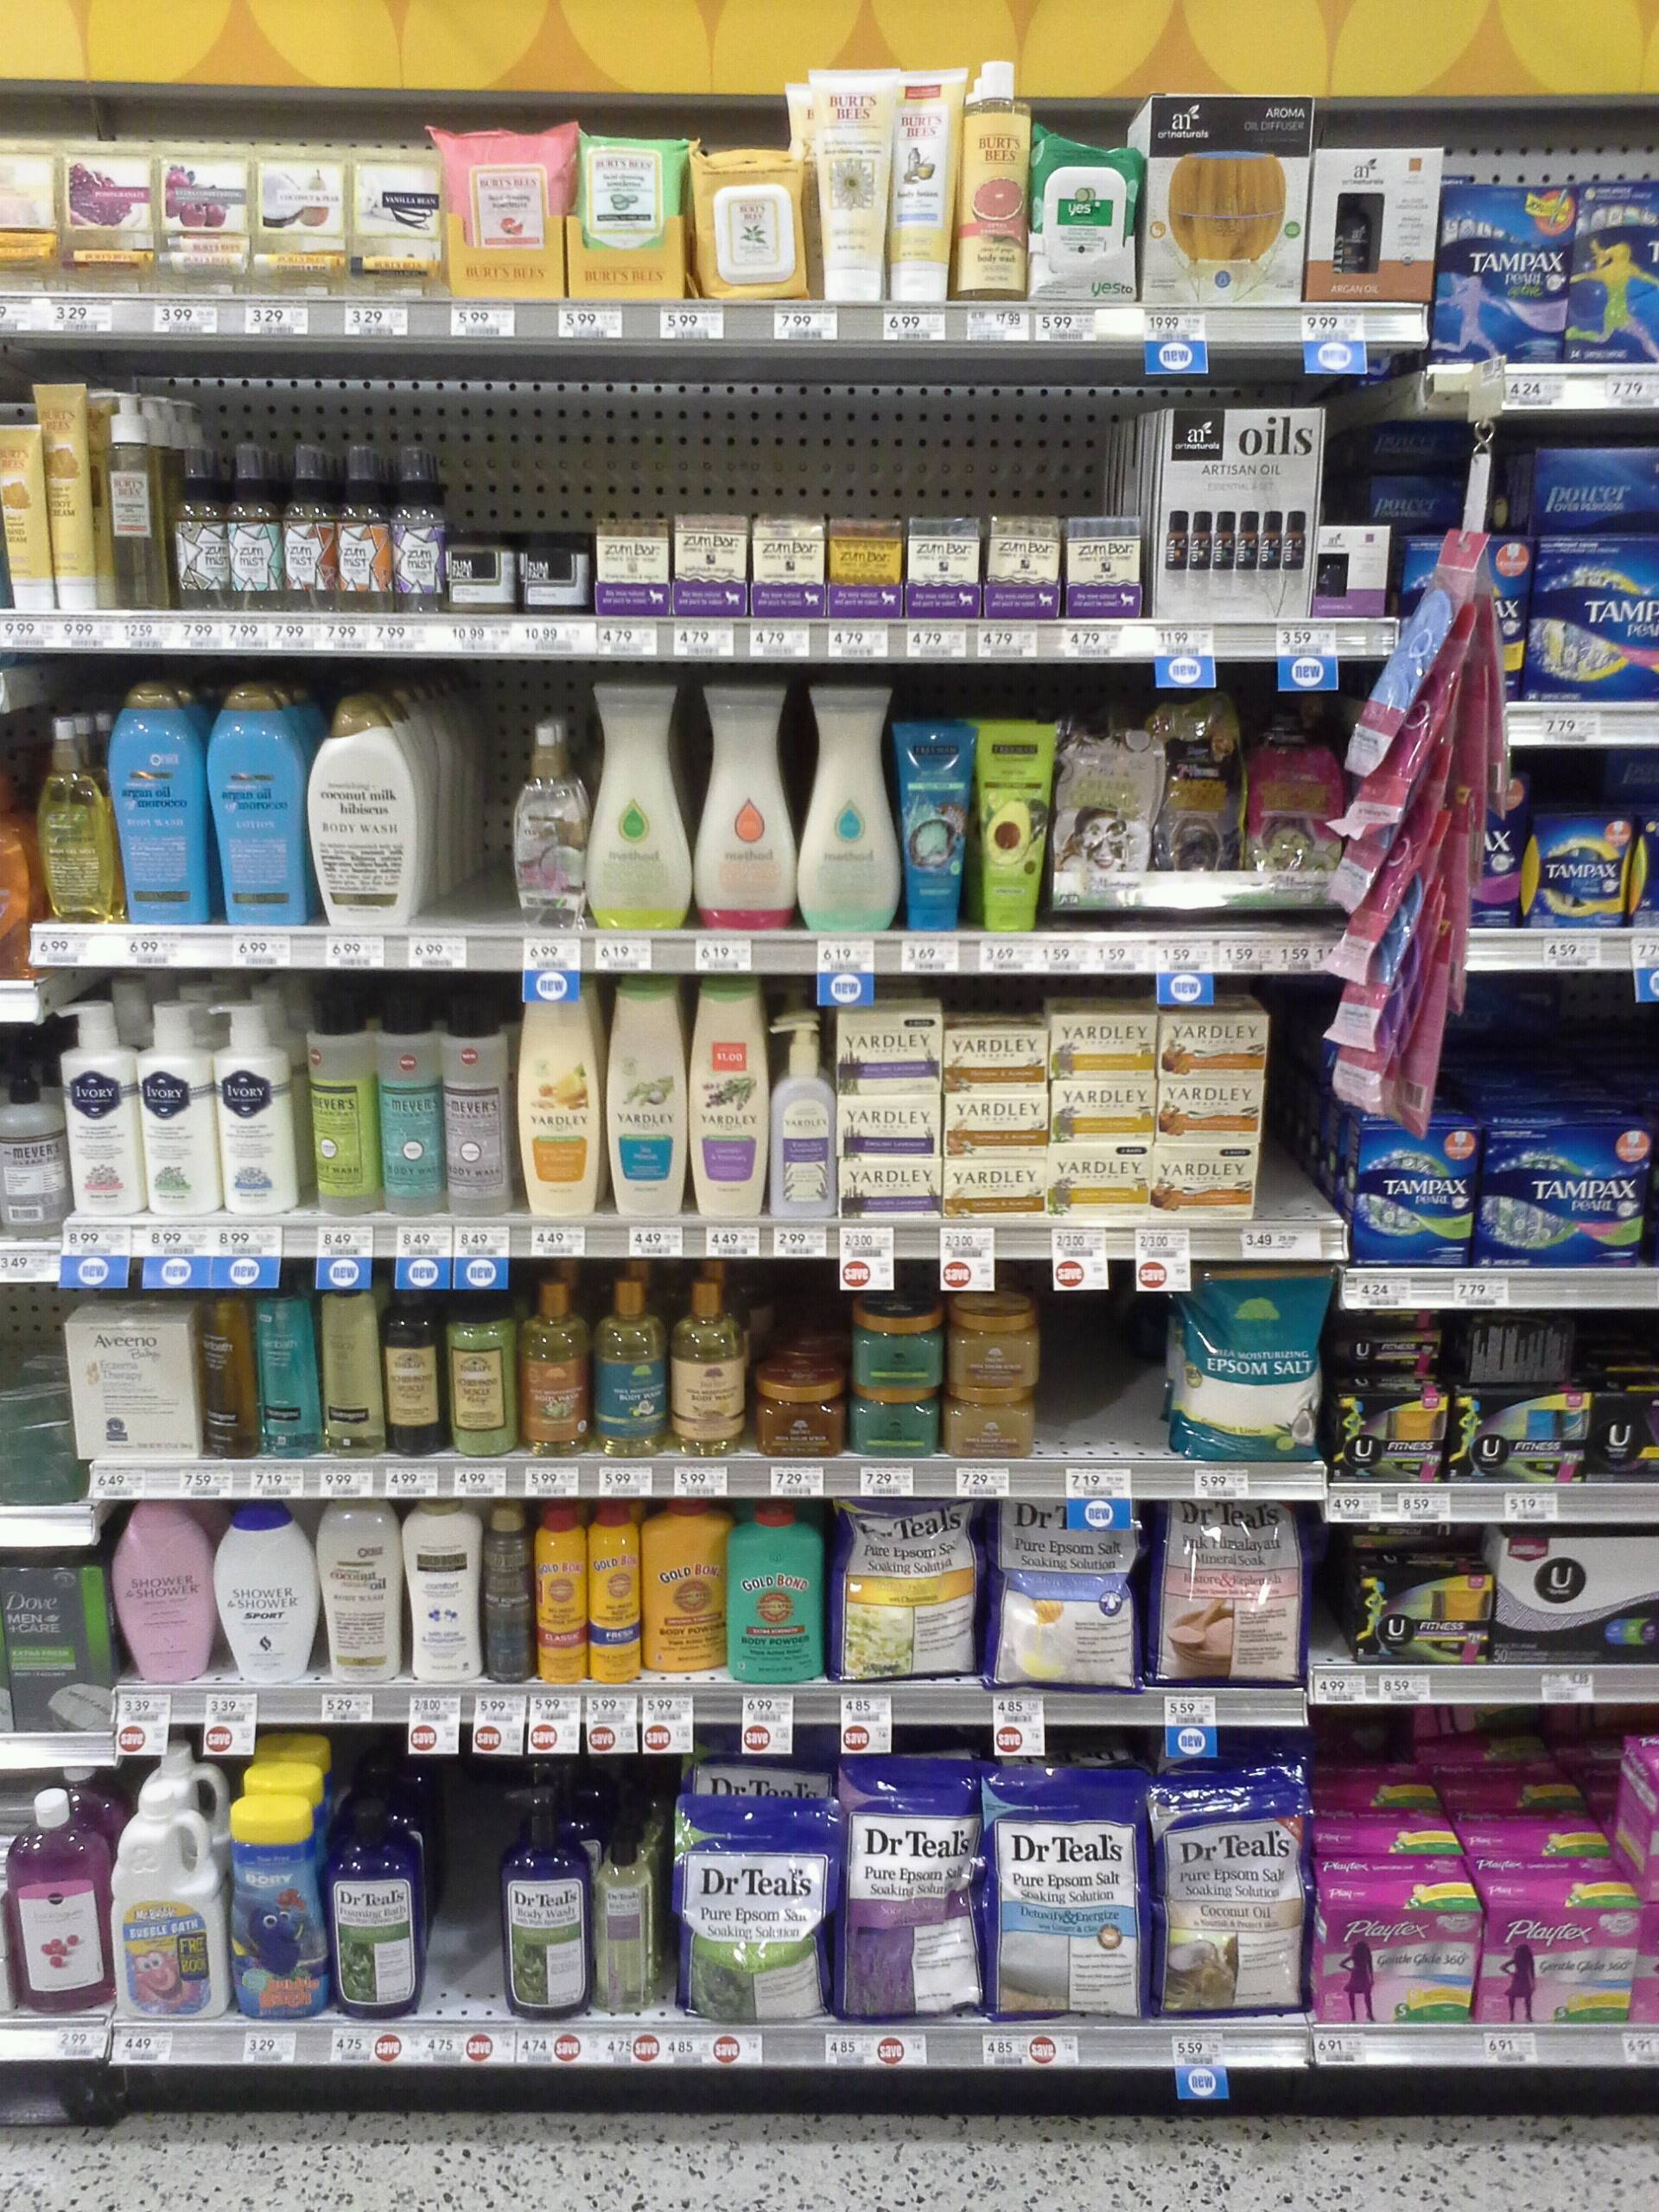Out-of-stock: (1039, 1292, 1176, 1458)
